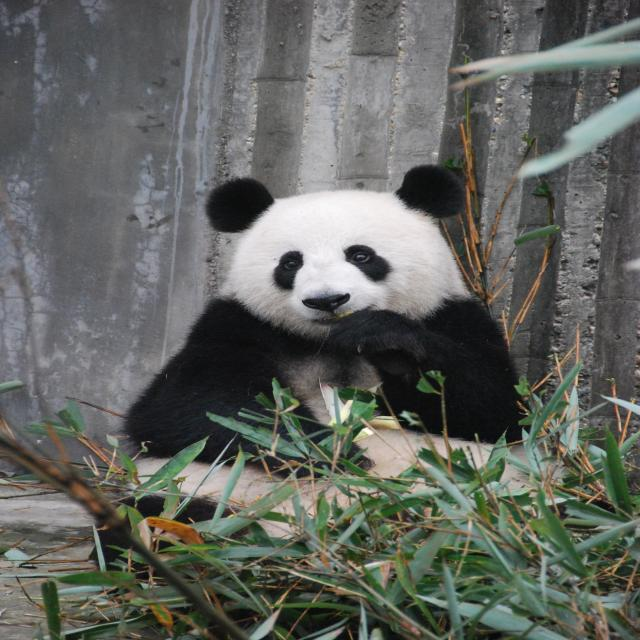animal: (123, 165, 524, 467)
